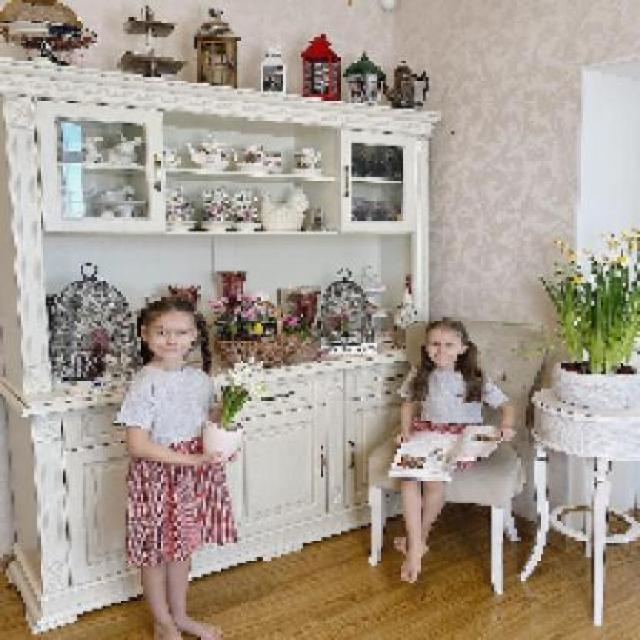child: (114, 297, 243, 637), (392, 314, 514, 586)
